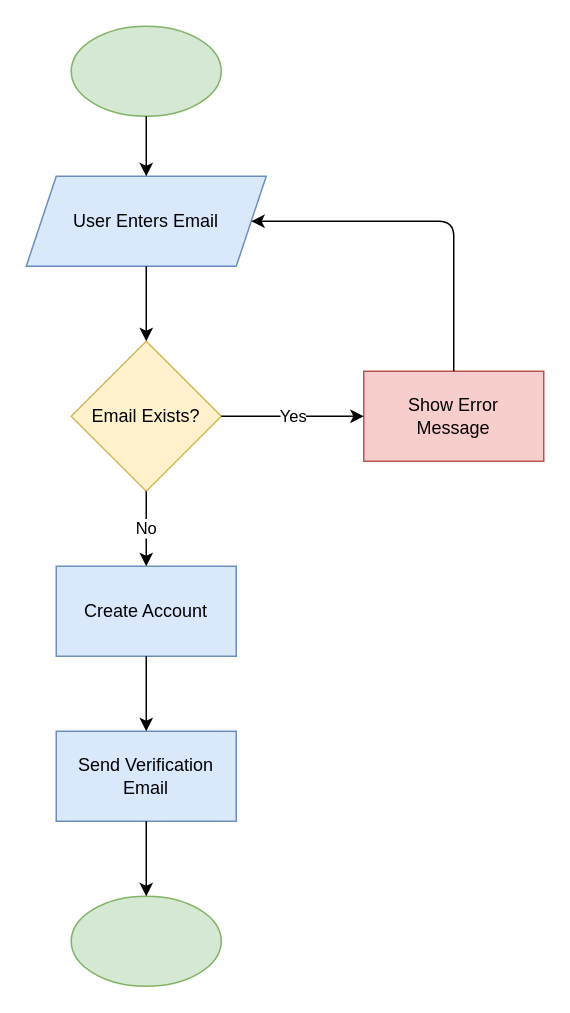
This 570x1013 diagram has some shape labels left out. Here are the shapes that lost their labels. From the top down, the centre of each, then its label:
the point at 145,70: Start
the point at 145,940: Done
